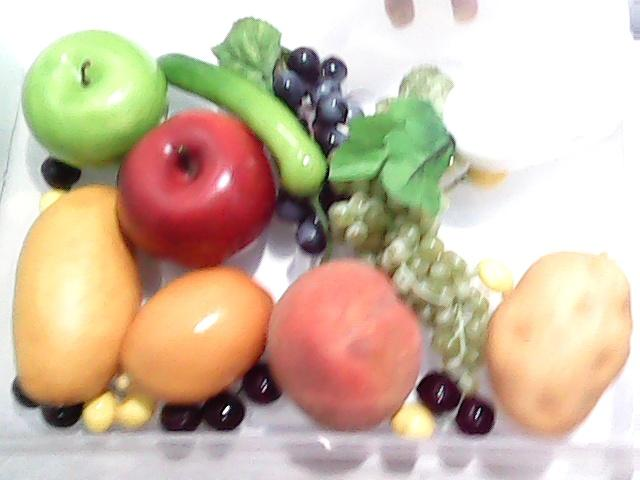apple: (0, 20, 180, 171), (110, 112, 278, 268)
grape: (318, 169, 507, 379), (273, 46, 359, 253)
lemon: (118, 260, 282, 407)
mango: (8, 182, 136, 404)
peach: (260, 257, 442, 446)
pepper: (156, 44, 332, 194)
potato: (481, 248, 634, 444)
radish: (328, 31, 640, 213)
